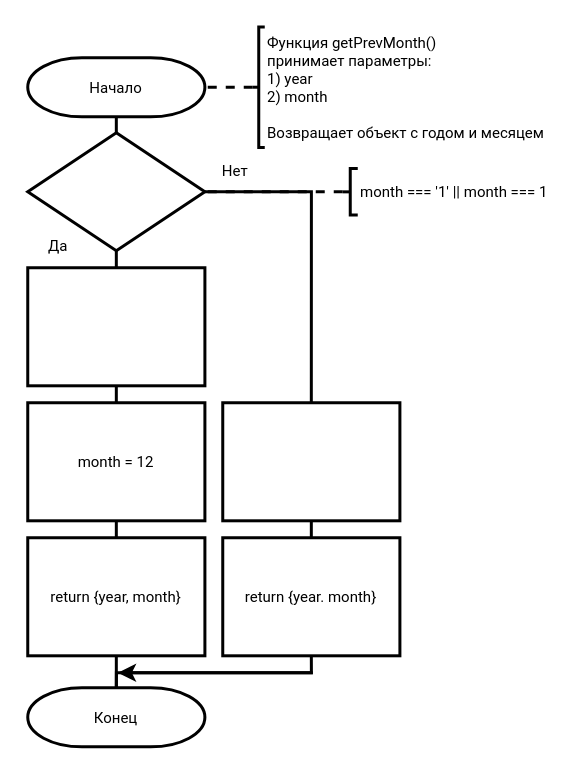
This 573x774 diagram has some shape labels left out. The shapes that lost their labels are listed below. From the top down, each one's box as (x1, y1, x2, y2) in pixels, then its label:
(26, 130, 206, 252): Условие
(26, 266, 206, 387): year = Number(year) - 1
(220, 400, 401, 522): month = Number(month) - 1
